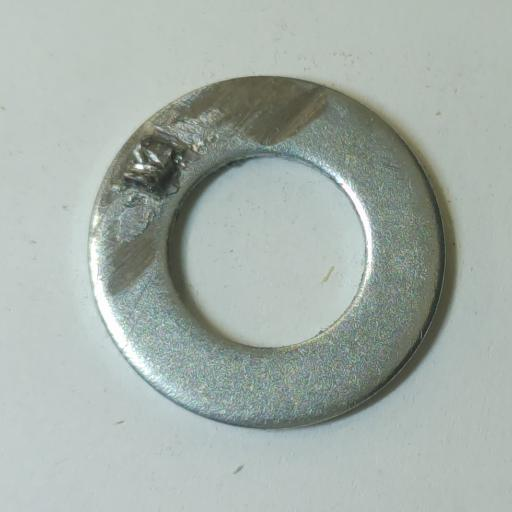excess_material: (123, 135, 188, 194), (118, 208, 148, 242)
